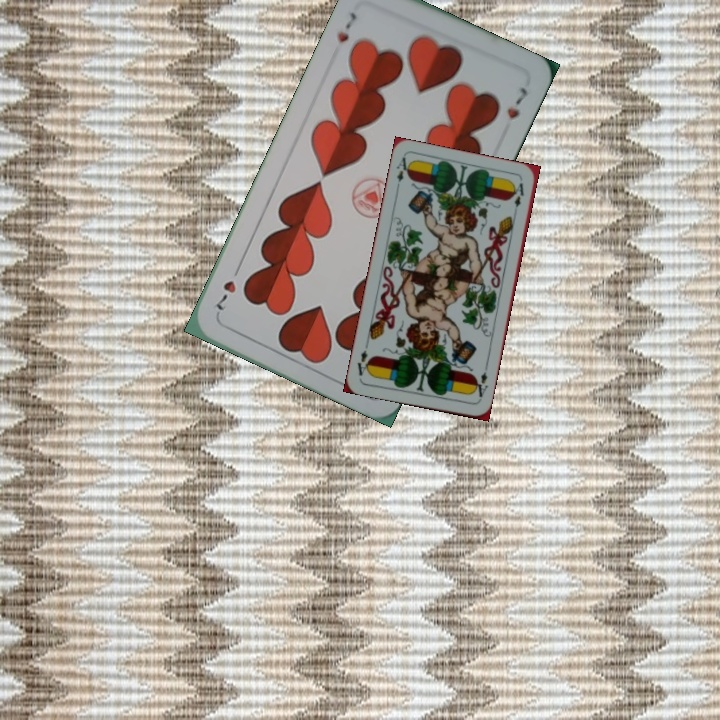EA: (392, 153, 413, 194), (469, 368, 490, 403)
H7: (332, 7, 360, 46)
